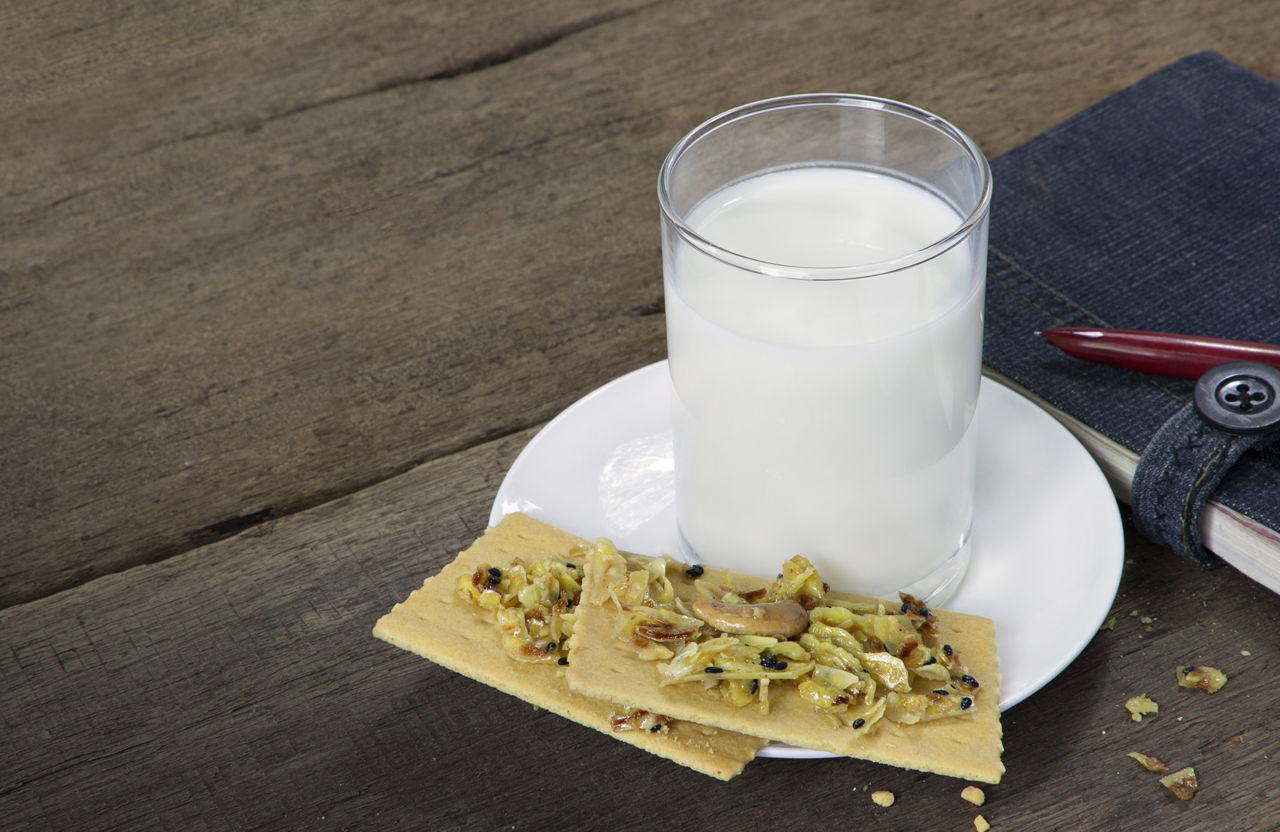glass of milk: (640, 92, 995, 613)
